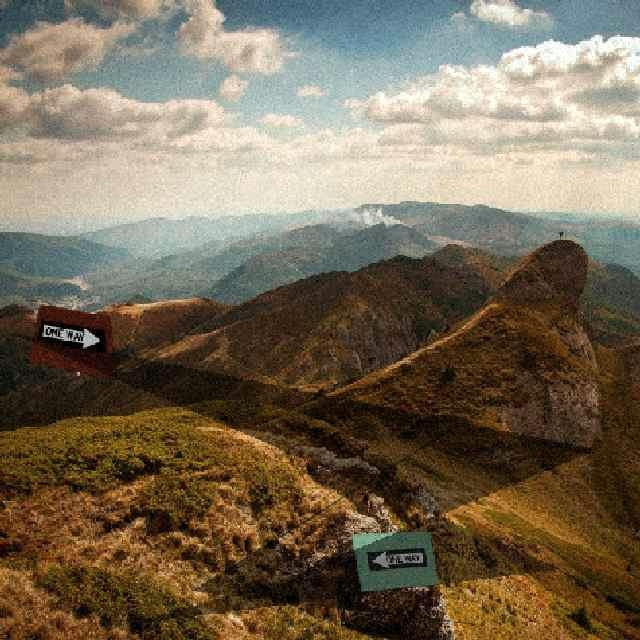ONE_WAY_ left: (365, 545, 426, 570)
ONE_WAY_ right: (36, 318, 107, 353)
